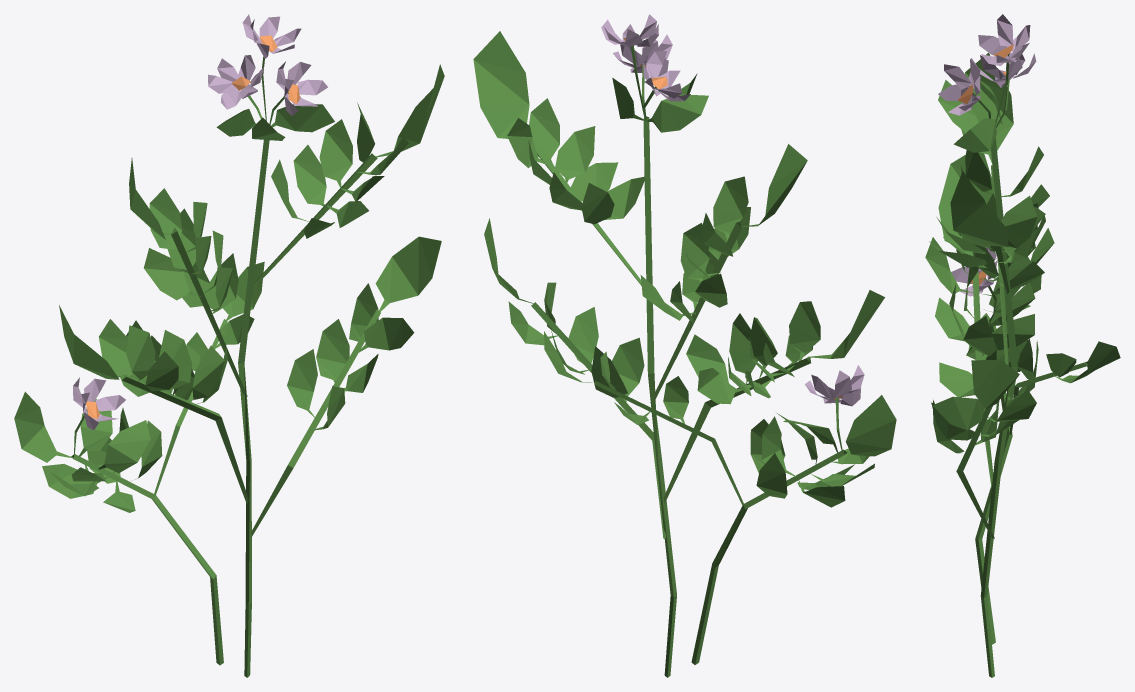
Rendered from Potato_3.fbx.
3 renders of one model, left to right at view 1: azimuth 30°, elevation 25°; view 2: azimuth 150°, elevation 25°; view 3: azimuth 270°, elevation 25°, orthographic. The views are drawn at different scales.
Parts seen in each view (by area): view 1: Potato_3; view 2: Potato_3; view 3: Potato_3.
Part boxes in pixels (<box>): Potato_3: <box>14,14,444,677</box>; Potato_3: <box>473,14,896,677</box>; Potato_3: <box>925,14,1120,677</box>.
Bounding box in the file's own units: 55.75 × 81.98 × 21.69.
